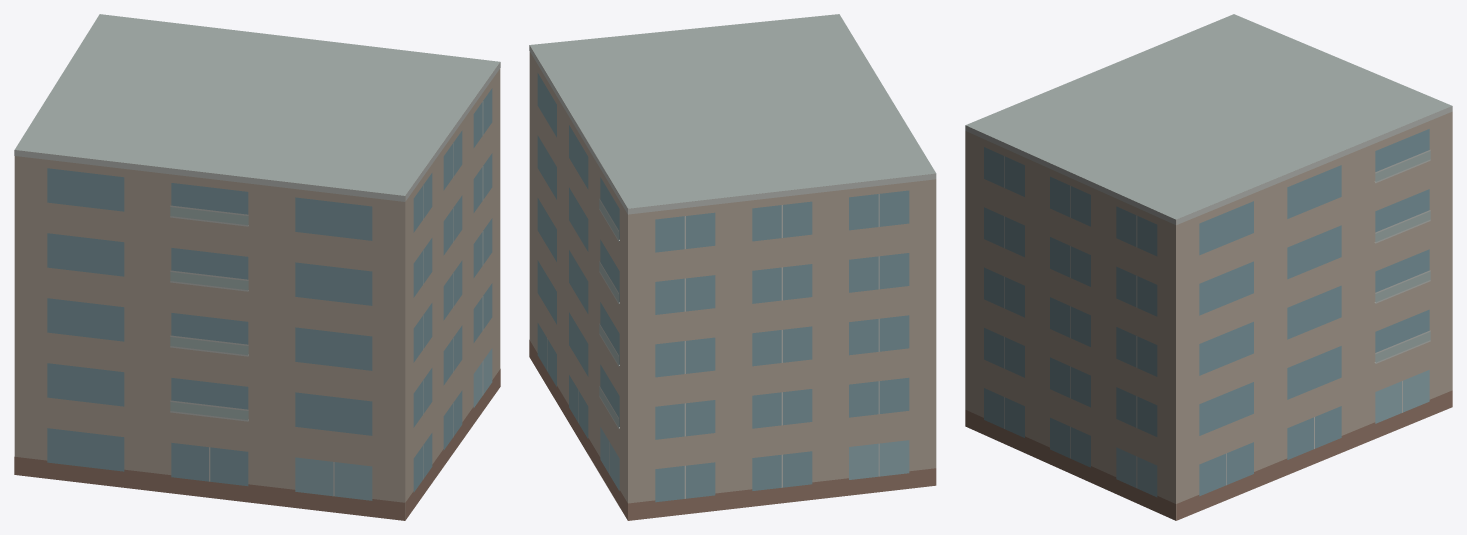
The model's file is survey-upis-32814402.glb.
3 renders of one model, left to right at view 1: azimuth 30°, elevation 25°; view 2: azimuth 150°, elevation 25°; view 3: azimuth 270°, elevation 25°, orthographic. The views are drawn at different scales.
Visible parts, largest first — view 1: survey-upis-32814402.tmp; view 2: survey-upis-32814402.tmp; view 3: survey-upis-32814402.tmp.
Part boxes in pixels (x1,y1,x2,y2): survey-upis-32814402.tmp: (14, 14, 500, 520); survey-upis-32814402.tmp: (529, 14, 936, 520); survey-upis-32814402.tmp: (965, 14, 1452, 520).
Bounding box in the file's own units: 19.27 × 13.15 × 19.29.
